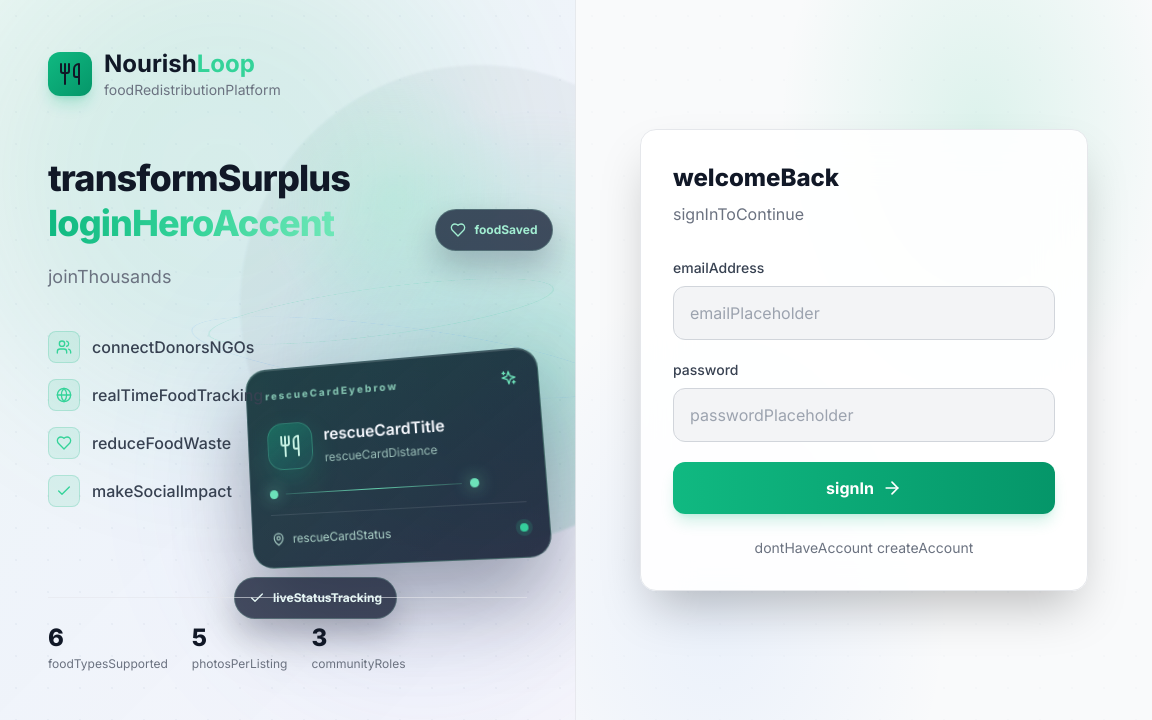
Login - User Authentication › shows a retryable error and clears loading when login times out
Type "user@example.com" into the field with placeholder "emailPlaceholder".
click(864, 313); type("user@example.com")  # box [673,286,1055,340]
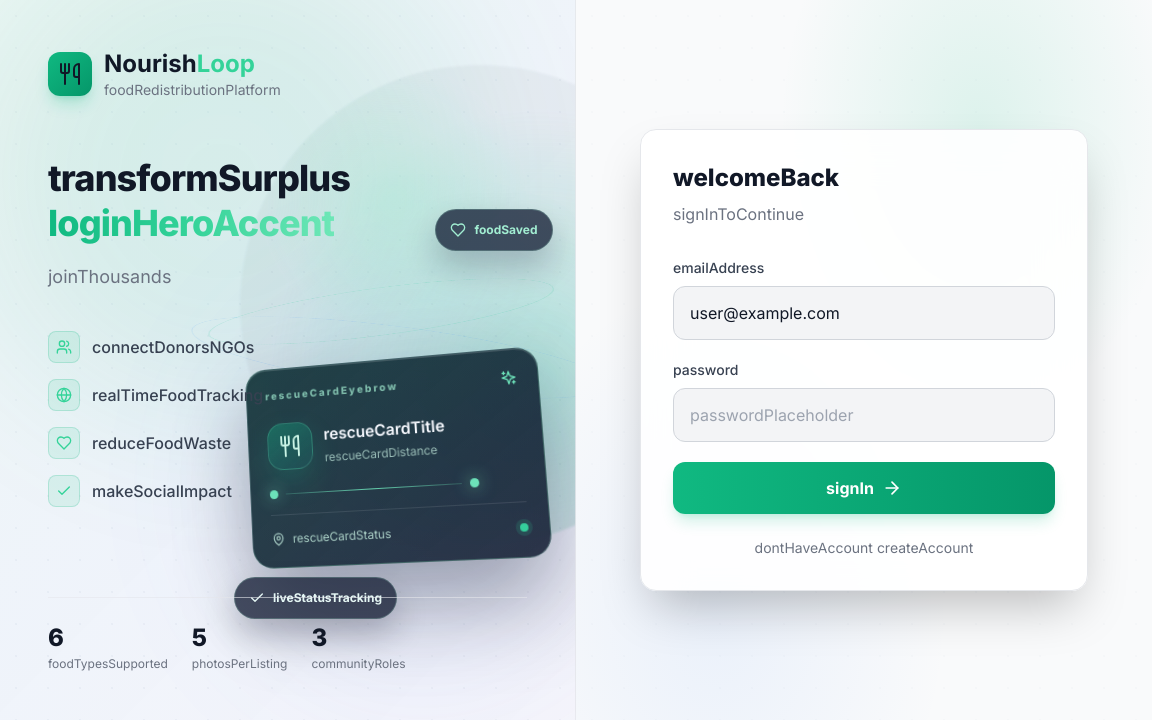
Type "password" into the password field with placeholder "passwordPlaceholder".
click(864, 415); type("password")  # box [673,388,1055,442]
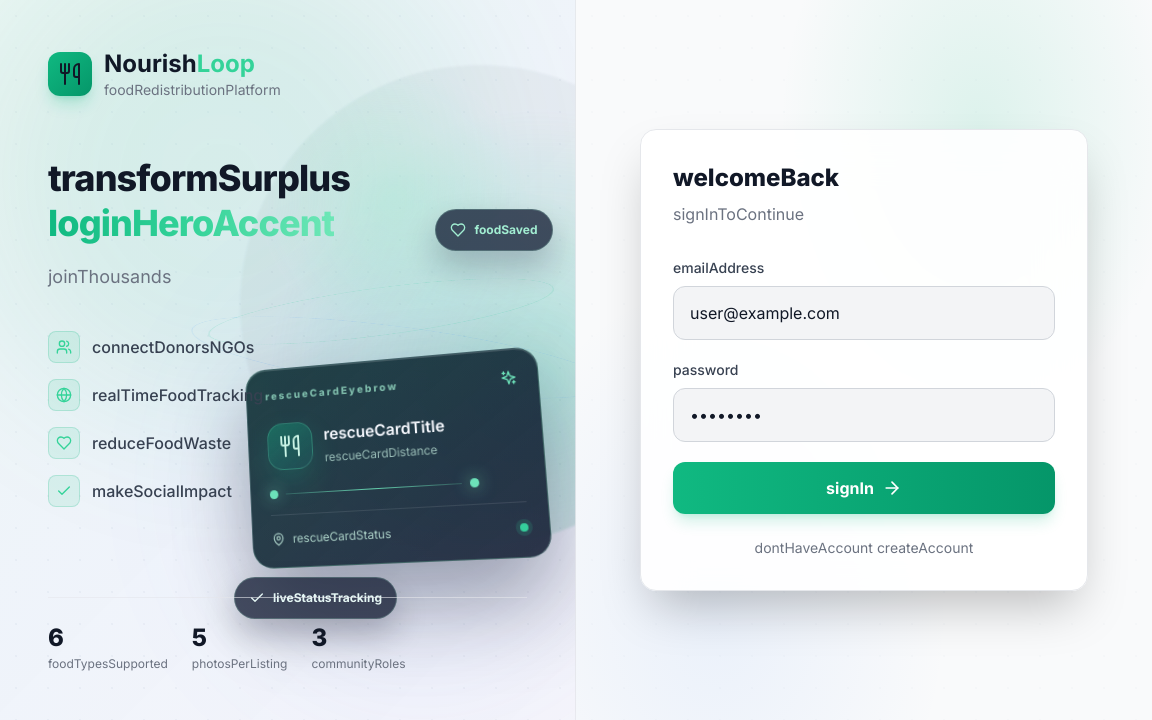
Click the button "signIn".
click(864, 488)  # box [673,462,1055,514]
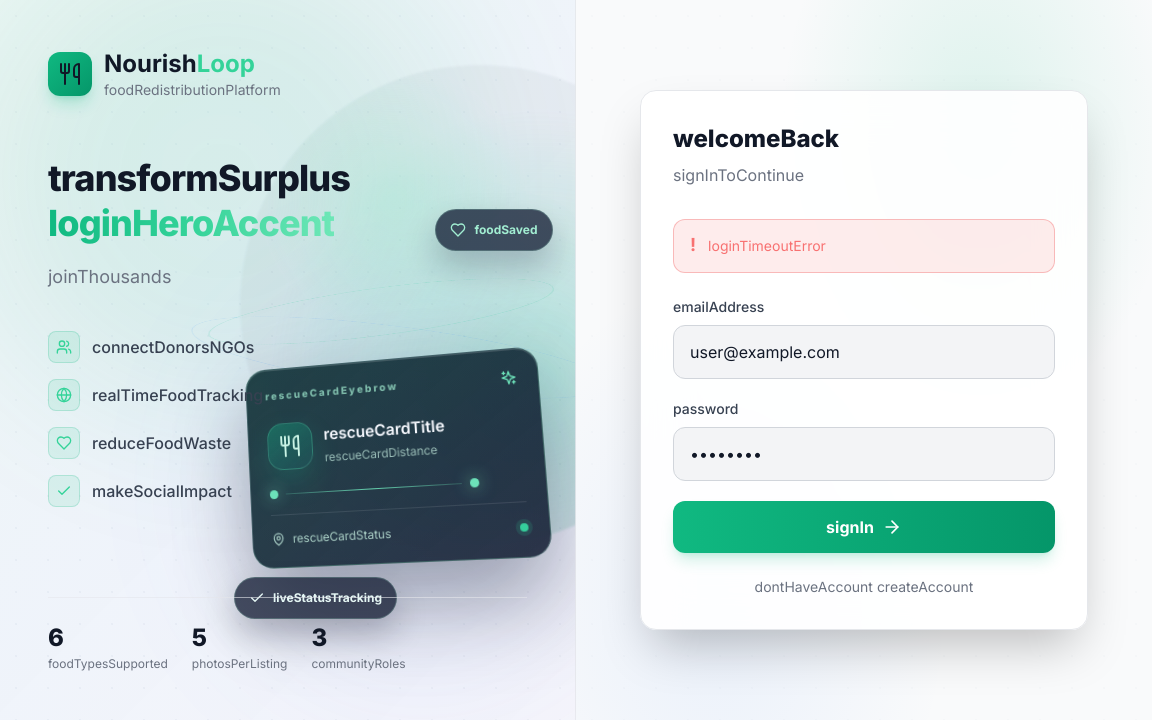
Check: the button "signIn" is enabled, box [673,501,1055,553]
Check: the text "loginTimeoutError" is shown, box [708,236,826,256]
